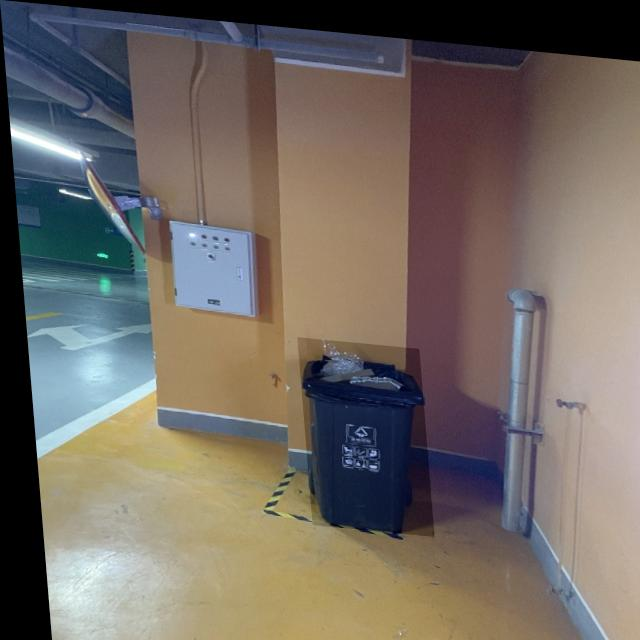overflow: (292, 331, 426, 529)
